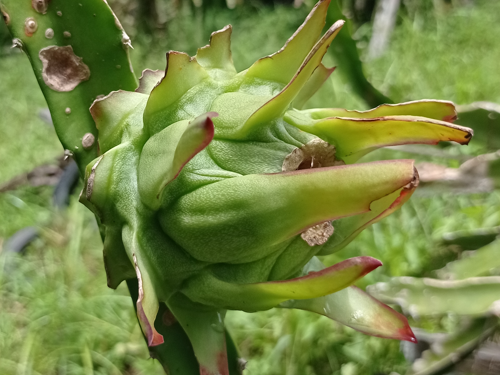Belum Matang: (81, 49, 452, 299)
